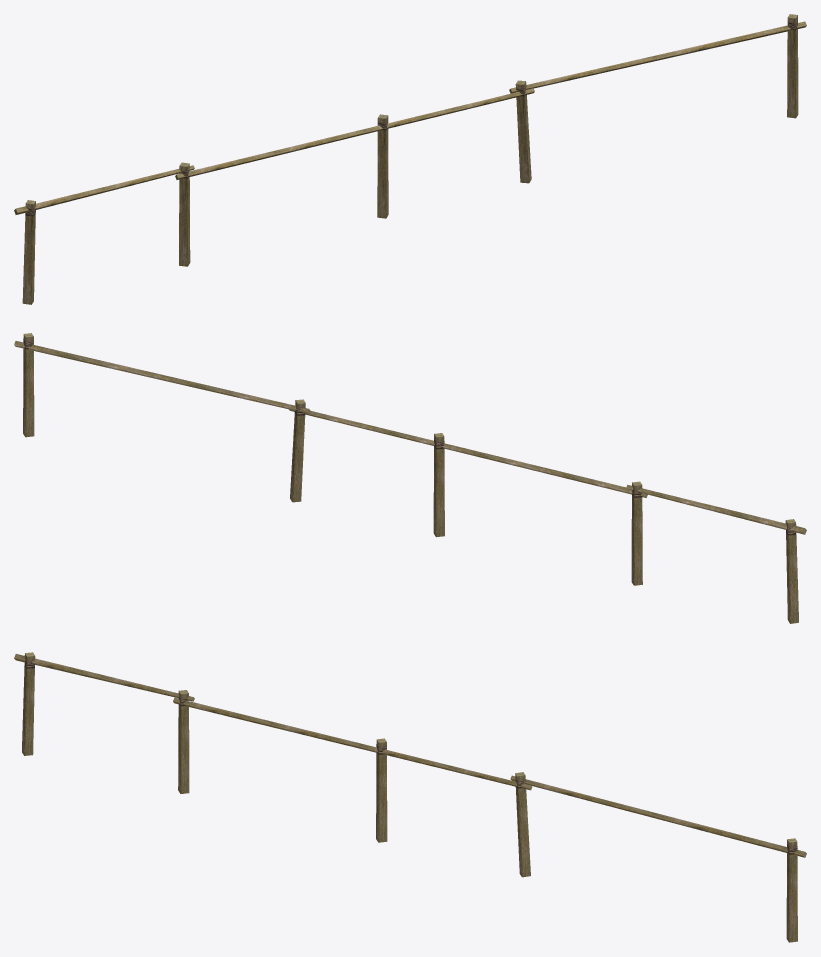
Rendered from thm_endr_lake_rail8m_l1.fbx.
3 views of the same model, one above another, from view 1: azimuth 30°, elevation 25°; view 2: azimuth 150°, elevation 25°; view 3: azimuth 330°, elevation 25° (orthographic).
Parts seen in each view (by area): view 1: mesh_node; view 2: mesh_node; view 3: mesh_node.
Part boxes in pixels (<box>): mesh_node: <box>14,14,806,304</box>; mesh_node: <box>14,333,806,623</box>; mesh_node: <box>14,652,806,942</box>.
Size of the model in its own units: 7.97 by 0.9661 by 0.1197.
